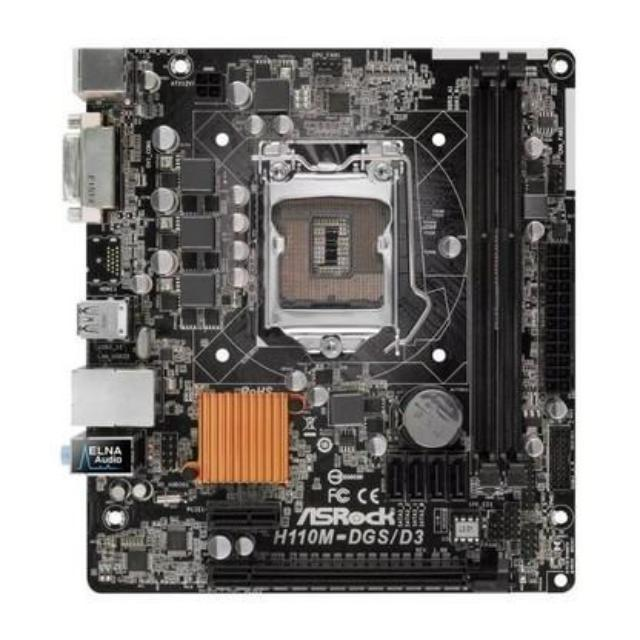Mainboard: (65, 34, 583, 602)
